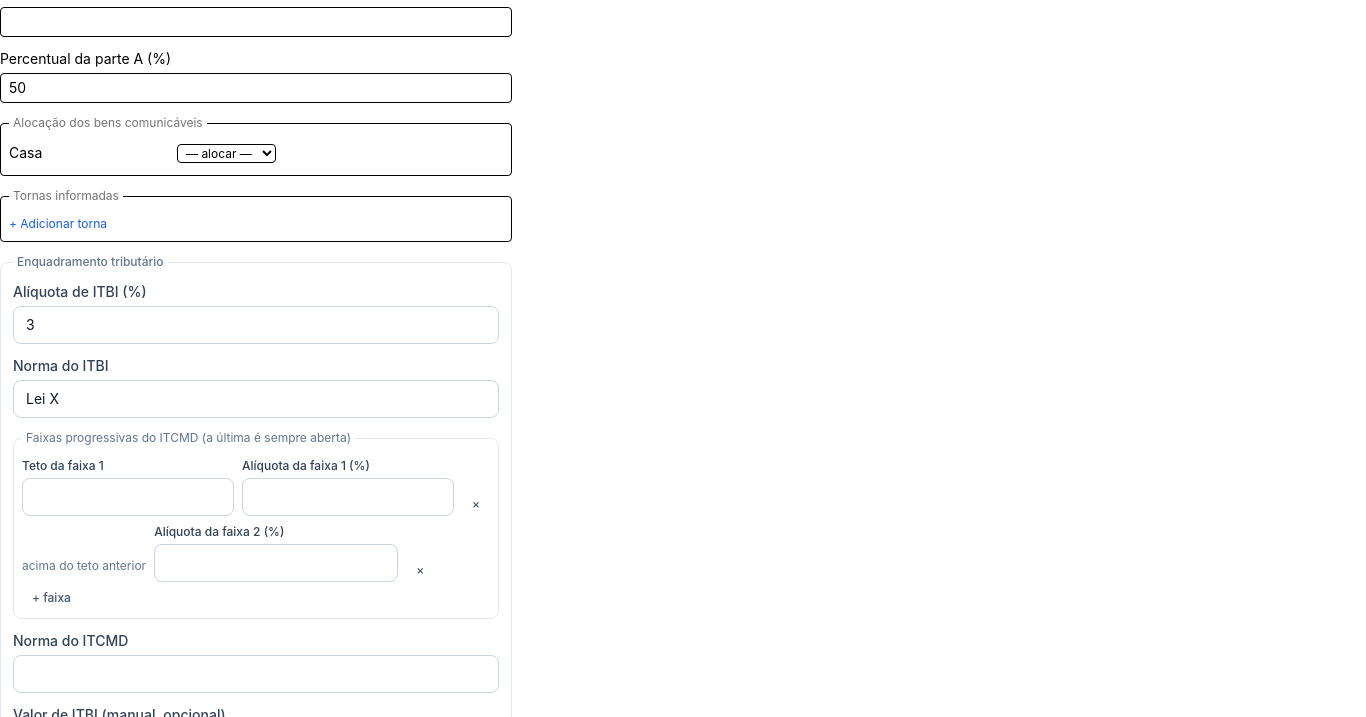
Scenario: AbaCenarios › rejeita faixa de ITCMD com teto preenchido e alíquota em branco, sem gravar
Check: the number field labelled "Alíquota de ITBI (%)" is shown, box [13, 306, 499, 344]
In the field labelled "Rótulo": (256, 22) [0, 7, 512, 37], type "Proposta C"
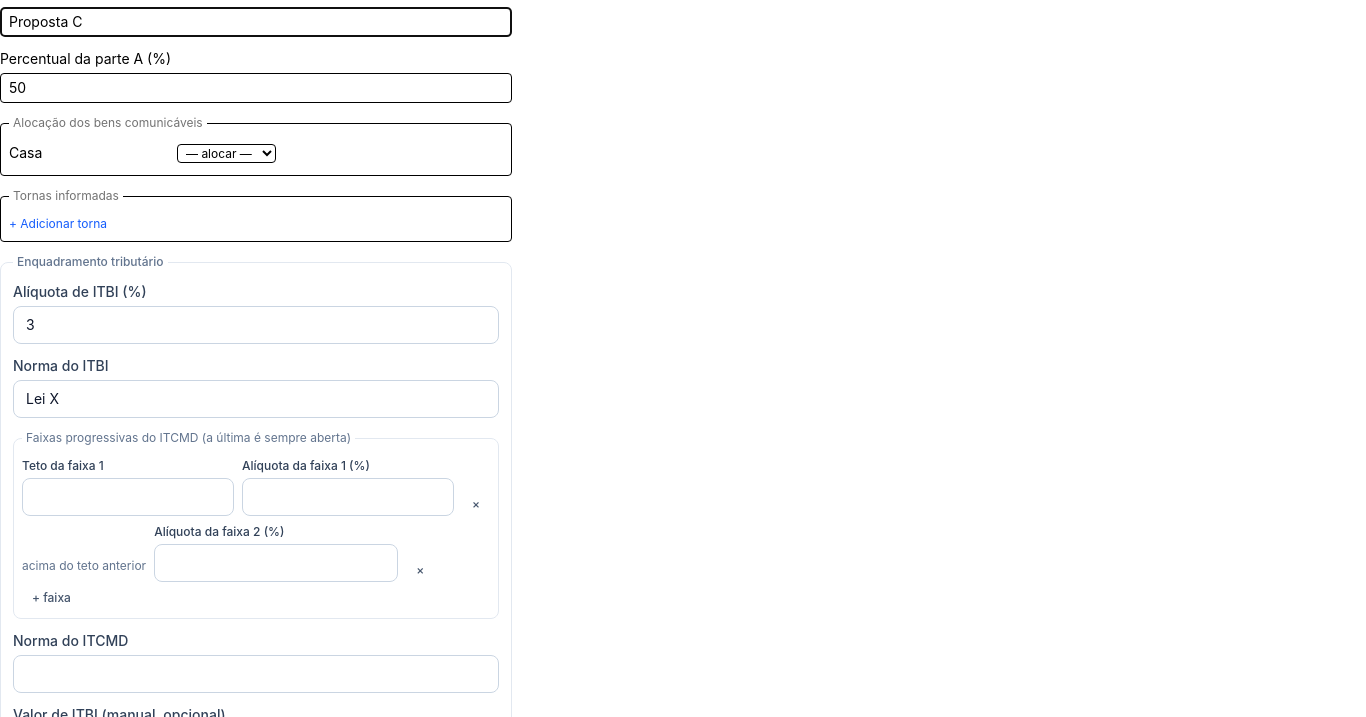
In the number field labelled "Teto da faixa 1": (128, 497) [22, 478, 234, 516], type "100000"
(page scrolled)
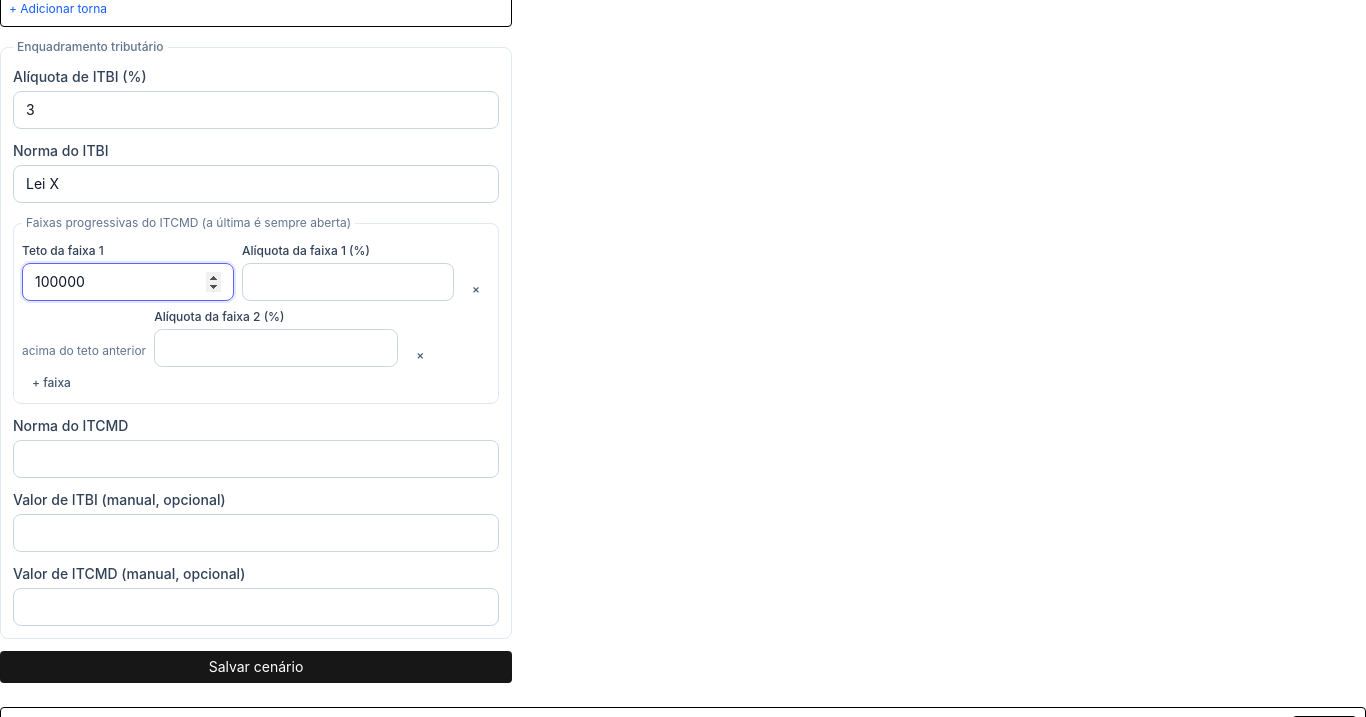
Click the button "Salvar cenário": (256, 667) [0, 651, 512, 683]
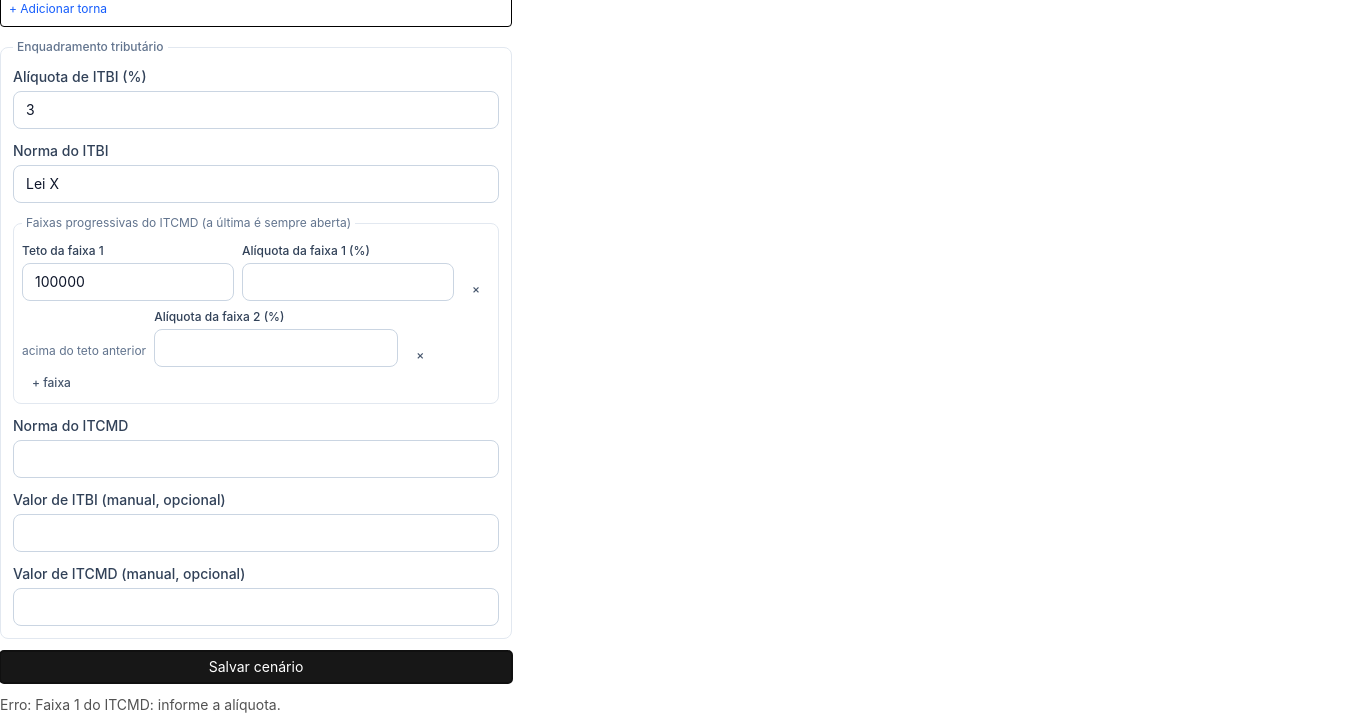
Check: the message reads "Erro: Faixa 1 do ITCMD: informe a alíquota.", box [0, 696, 281, 713]
